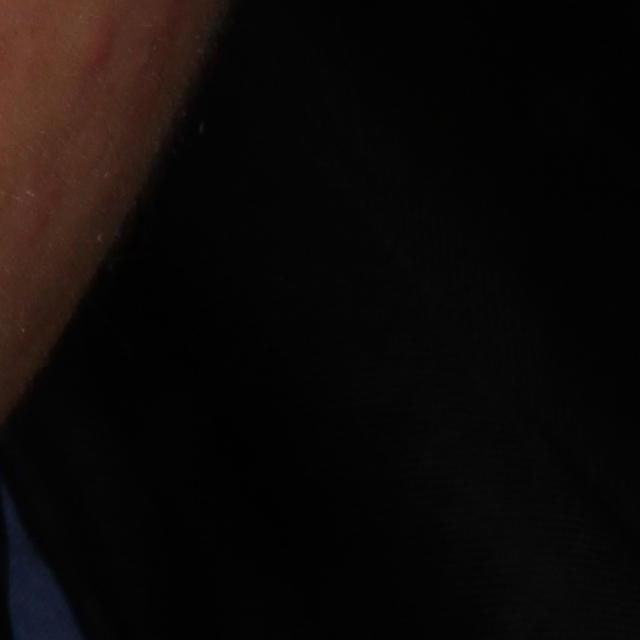papule: (75, 11, 126, 85)
